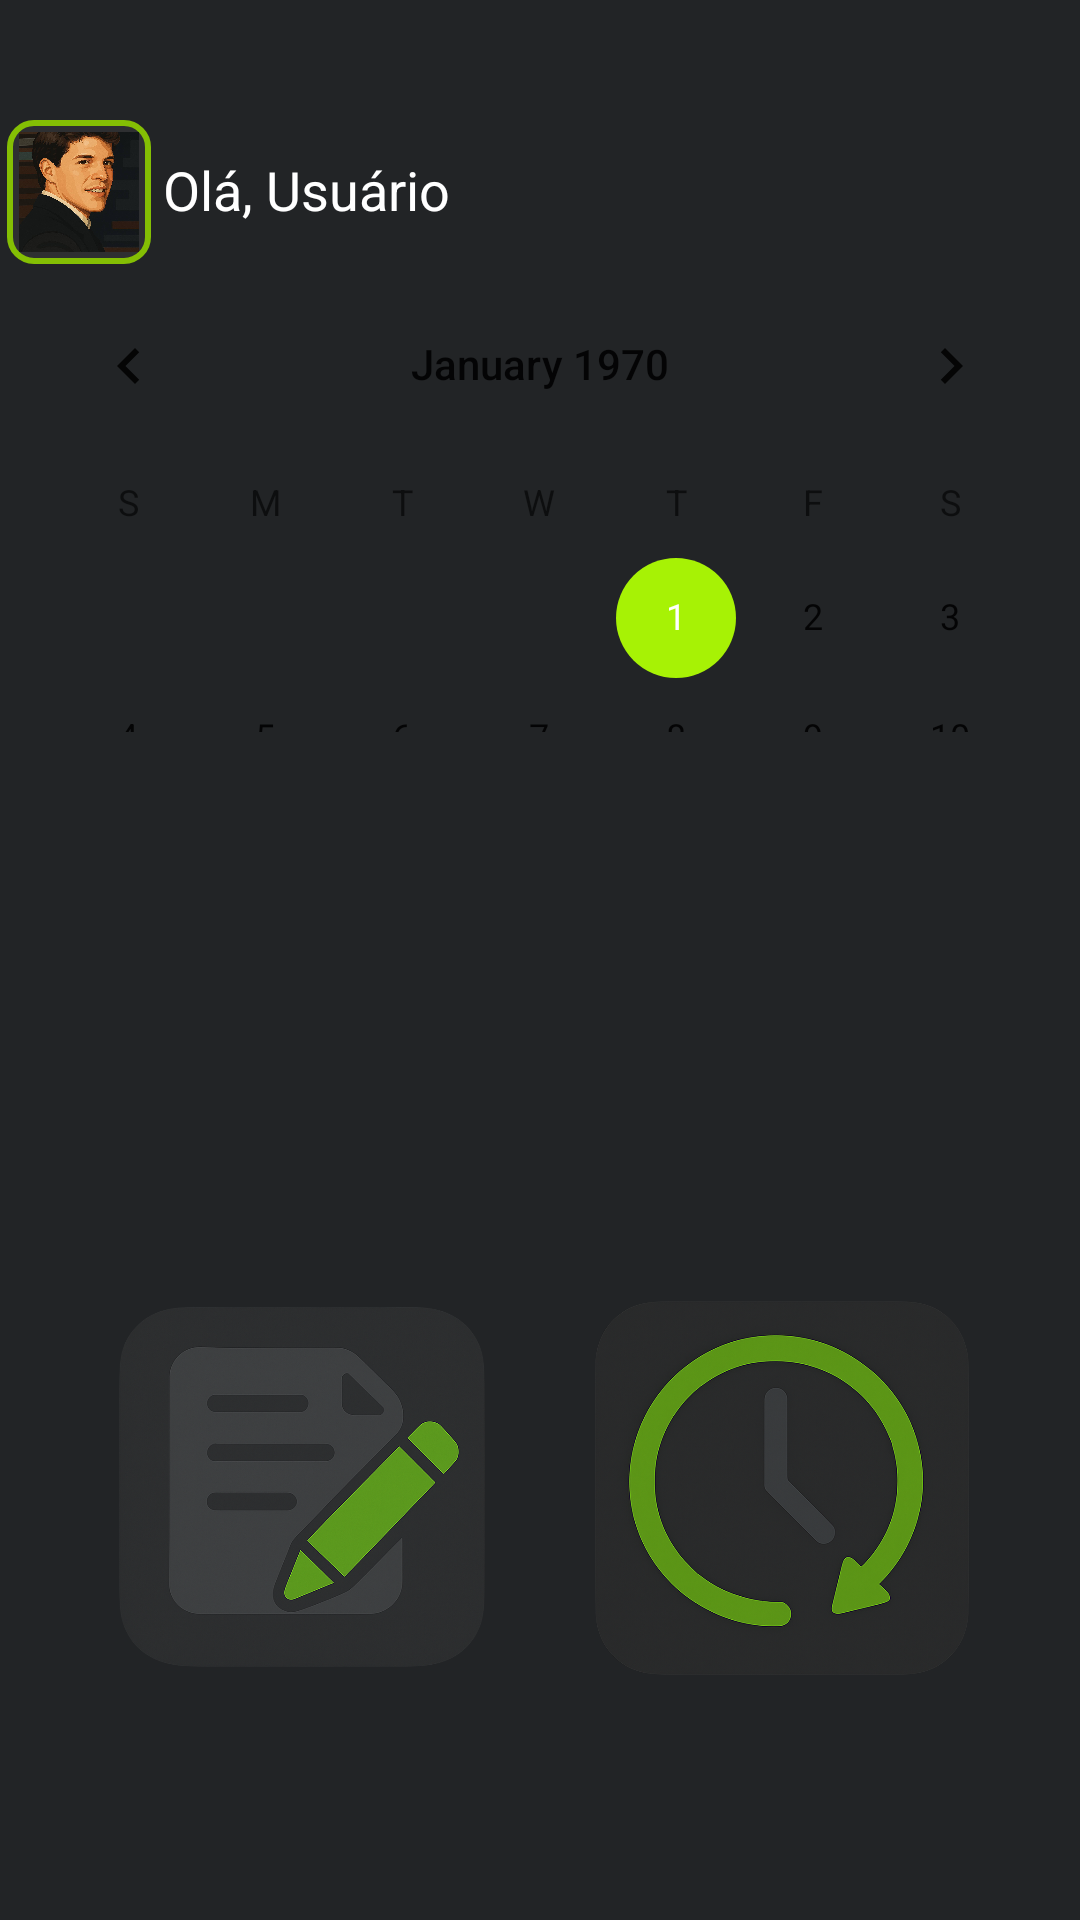

Locate icon controls on the screen. Image size 1080 × 1920, boxes as (x1, y1, x2, y2).
anotacao: (169, 1347, 459, 1614)
historico: (629, 1335, 924, 1627)
user: (7, 120, 151, 264)
